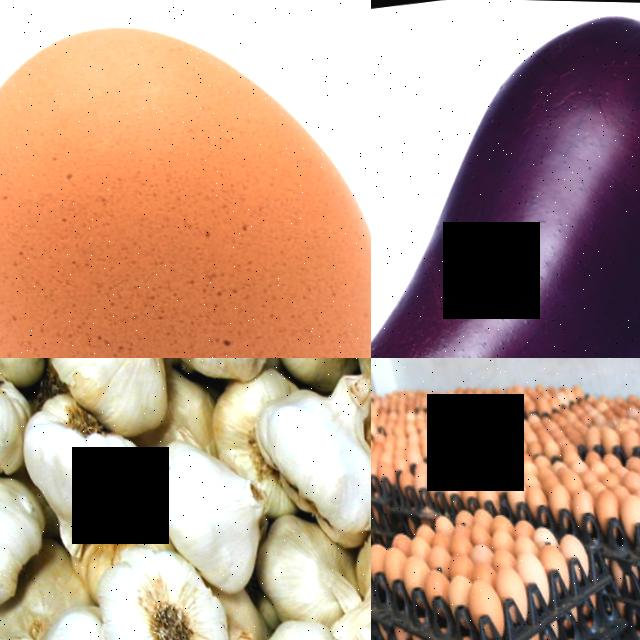egg_: (0, 0, 371, 358), (455, 578, 498, 632), (485, 559, 518, 600), (608, 488, 640, 528), (390, 552, 424, 586), (583, 484, 614, 519), (434, 572, 465, 607), (508, 548, 537, 583), (372, 542, 401, 575), (532, 539, 559, 570), (537, 479, 564, 510), (496, 471, 521, 503), (563, 485, 590, 514)
eggplant: (371, 0, 640, 358)
garlic: (243, 369, 371, 541), (9, 402, 154, 547), (142, 433, 270, 591), (73, 536, 234, 640), (25, 358, 174, 433), (338, 501, 371, 640), (143, 358, 266, 390), (235, 610, 347, 640)
